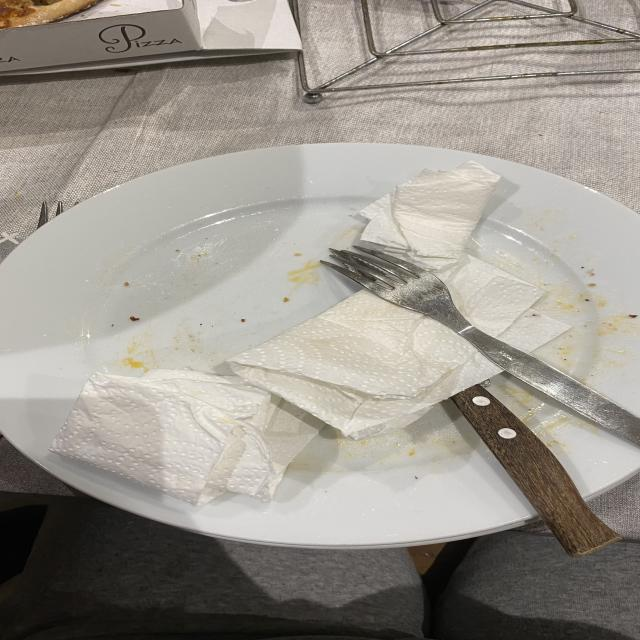fork: (321, 250, 640, 445)
garbage: (51, 290, 501, 504), (347, 162, 569, 351)
knife: (448, 384, 620, 556)
